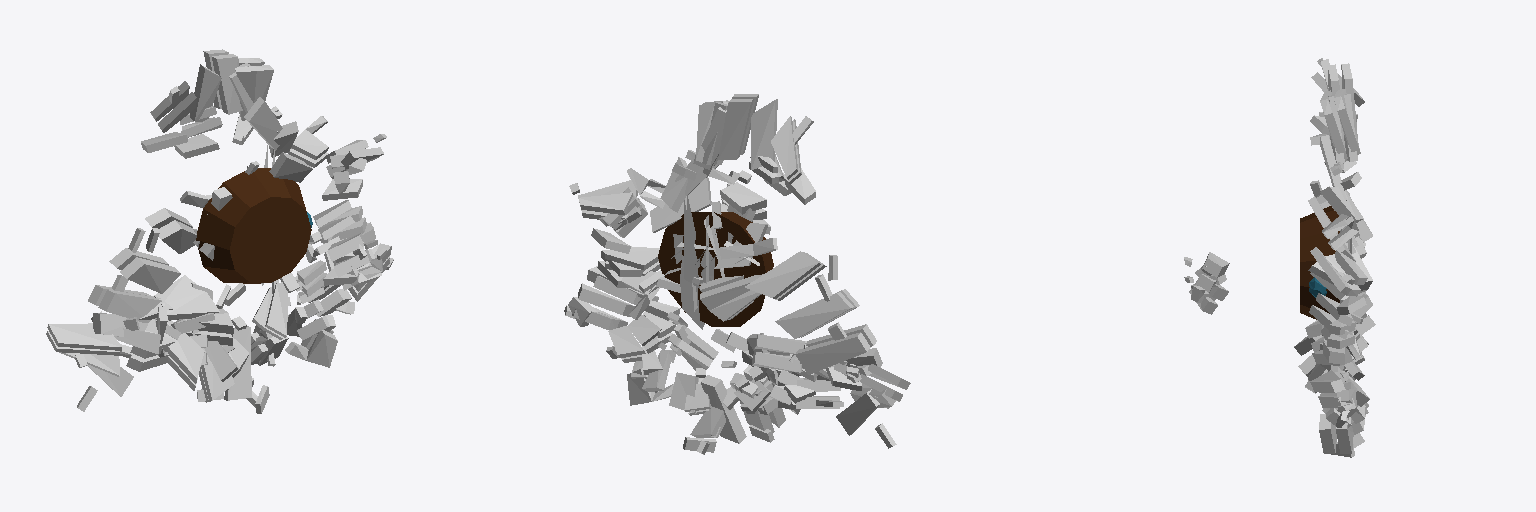
3 renders of one model, left to right at view 1: azimuth 30°, elevation 25°; view 2: azimuth 150°, elevation 25°; view 3: azimuth 270°, elevation 25°, orthographic.
Parts seen in each view (by area): view 1: Cone_Cone_cover, Cone.001_Cone.001_cover, Cylinder_Cylinder_Material.001; view 2: Cone_Cone_cover, Cone.001_Cone.001_cover, Cylinder_Cylinder_Material.001, Plane_Plane_Material.003; view 3: Cone.001_Cone.001_cover, Cone_Cone_cover, Cylinder_Cylinder_Material.001.
Part boxes in pixels (x1,y1,x2,y2): Cone_Cone_cover: (88, 121, 393, 413); Cone.001_Cone.001_cover: (46, 49, 386, 411); Cylinder_Cylinder_Material.001: (196, 168, 311, 283); Cone_Cone_cover: (564, 157, 882, 454); Cone.001_Cone.001_cover: (569, 94, 910, 448); Cylinder_Cylinder_Material.001: (658, 212, 773, 326); Plane_Plane_Material.003: (665, 195, 759, 329); Cone.001_Cone.001_cover: (1191, 58, 1368, 407); Cone_Cone_cover: (1184, 186, 1375, 457); Cylinder_Cylinder_Material.001: (1300, 206, 1339, 319).
Size of the model in its own units: 3.42 by 3.53 by 1.67.
Materials: 4 (1 with a texture image).